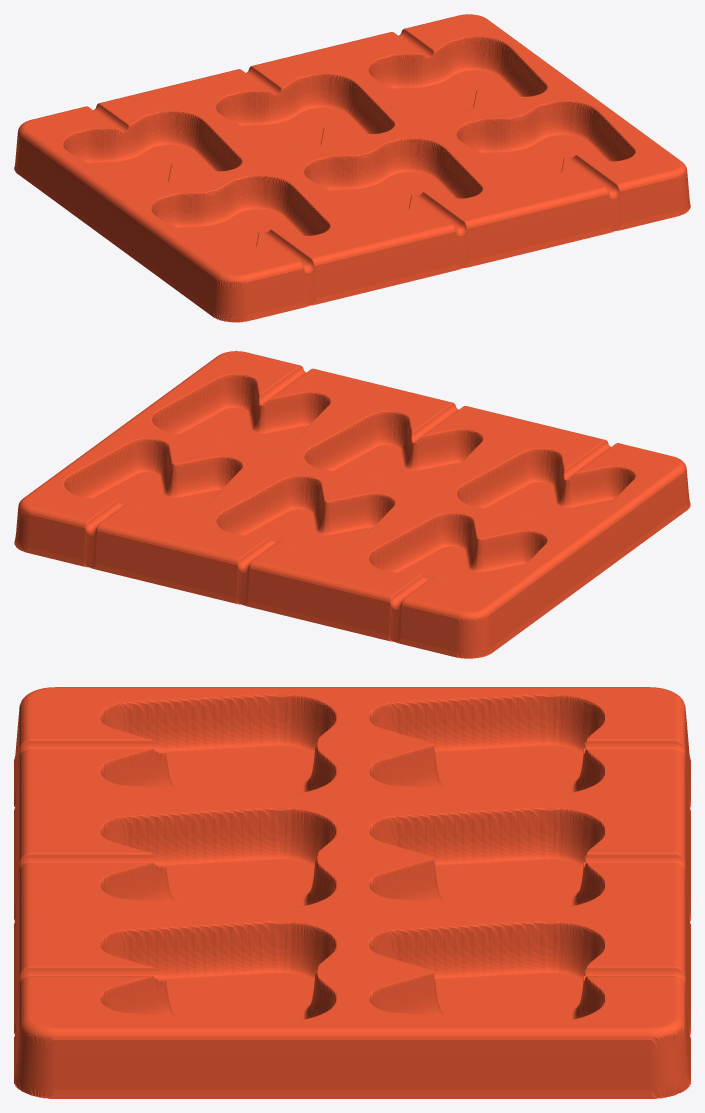
The model's file is mold.glb.
3 renders of one model, top to bottom at view 1: azimuth 30°, elevation 25°; view 2: azimuth 150°, elevation 25°; view 3: azimuth 270°, elevation 25°, orthographic. The views are drawn at different scales.
Visible parts, largest first — view 1: geometry_0; view 2: geometry_0; view 3: geometry_0.
Part boxes in pixels (x1=…): geometry_0: x1=14, y1=14, x2=690, y2=322; geometry_0: x1=14, y1=351, x2=690, y2=658; geometry_0: x1=14, y1=687, x2=690, y2=1098.
Bounding box in the file's own units: 0.1824 × 0.0155 × 0.1477.
